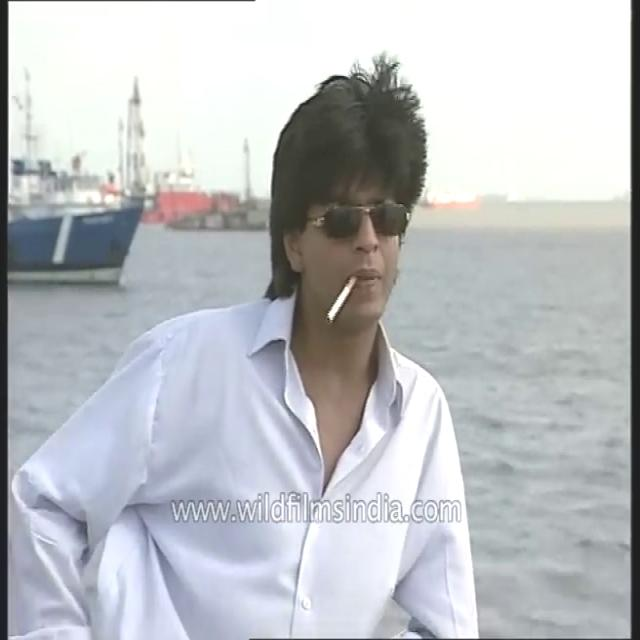Smooking: (316, 272, 366, 331)
